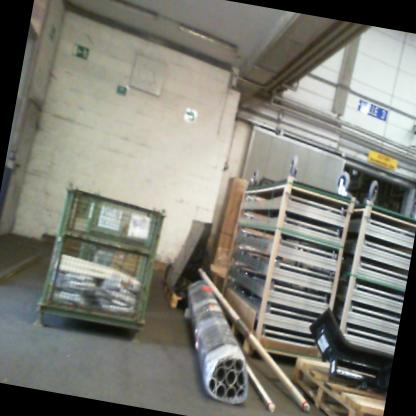pallet: (214, 311, 329, 378), (281, 347, 391, 416)
stillage: (32, 174, 174, 356)
